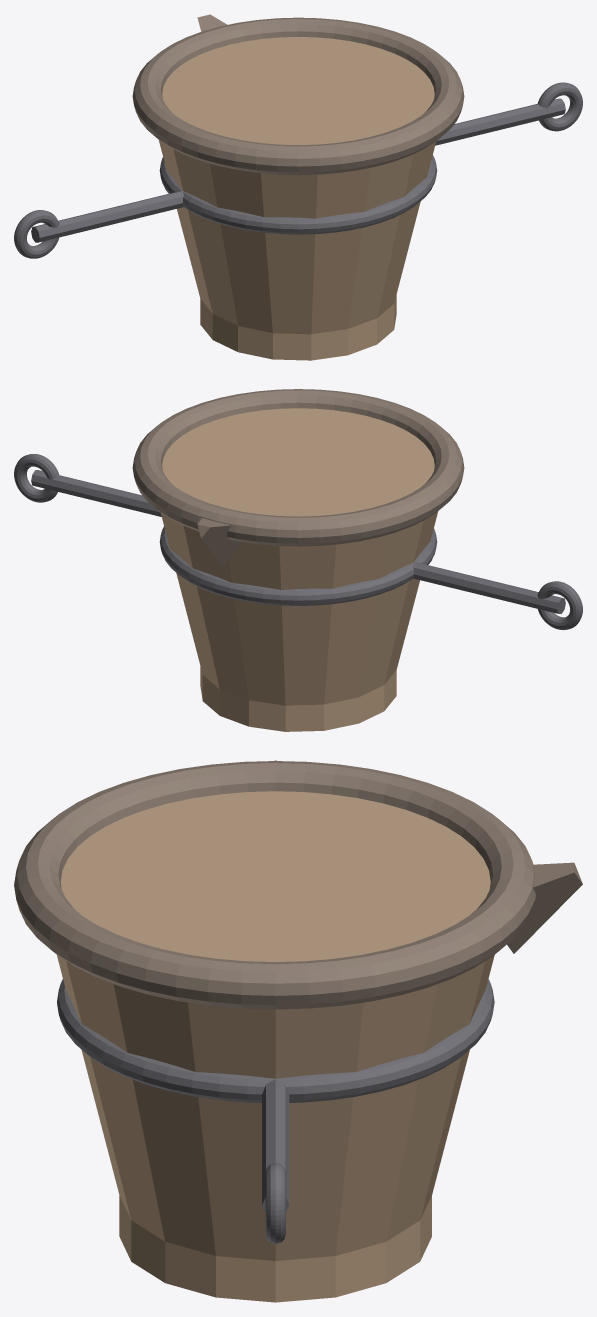
The model's file is crucible.glb.
3 views of the same model, one above another, from view 1: azimuth 30°, elevation 25°; view 2: azimuth 150°, elevation 25°; view 3: azimuth 270°, elevation 25° (orthographic). The views are drawn at different scales.
Visible parts, largest first — view 1: Cone, Torus, Cylinder, Torus.001, Cylinder.002, Cylinder.003, Torus.003, Torus.002; view 2: Cone, Torus, Cylinder, Torus.001, Cylinder.002, Cylinder.003, Torus.003, Torus.002, Cone.001; view 3: Cone, Torus, Cylinder, Torus.001, Cone.001, Cylinder.003, Torus.003.
Part boxes in pixels (x1,y1,x2,y2): Cone: [159, 37, 436, 334]; Torus: [132, 17, 464, 175]; Cylinder: [200, 295, 396, 360]; Torus.001: [159, 155, 437, 234]; Cylinder.002: [31, 191, 183, 242]; Cylinder.003: [435, 98, 565, 145]; Torus.003: [537, 82, 582, 131]; Torus.002: [14, 210, 59, 258]; Cone: [161, 408, 438, 705]; Torus: [132, 389, 464, 546]; Cylinder: [200, 666, 396, 731]; Torus.001: [159, 526, 437, 605]; Cylinder.002: [413, 562, 565, 613]; Cylinder.003: [31, 470, 161, 516]; Torus.003: [14, 454, 59, 502]; Torus.002: [537, 581, 582, 630]; Cone.001: [197, 518, 240, 566]; Cone: [57, 791, 494, 1260]; Torus: [14, 761, 535, 1009]; Cylinder: [119, 1195, 431, 1302]; Torus.001: [57, 979, 494, 1102]; Cone.001: [507, 862, 582, 953]; Cylinder.003: [262, 1078, 289, 1211]; Torus.003: [265, 1162, 285, 1243].
Bounding box in the file's own units: 1.52 × 0.605 × 0.8369.
